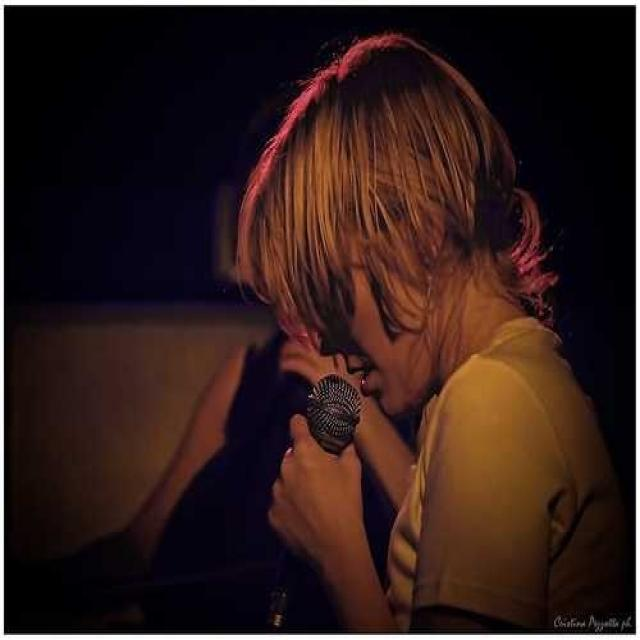microphone: (262, 375, 359, 633)
